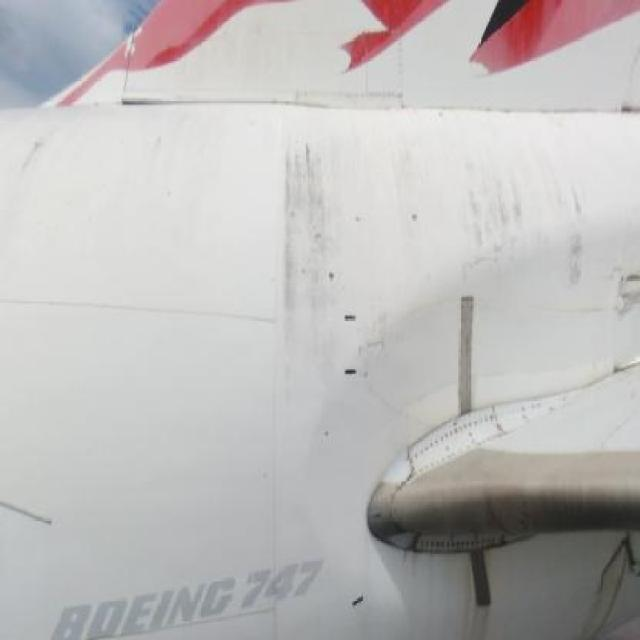Missing-Rivet: (406, 409, 519, 476), (415, 525, 523, 560), (519, 388, 587, 430)
Rust: (456, 122, 596, 293), (250, 104, 344, 358), (378, 114, 449, 243), (570, 527, 635, 640), (441, 547, 507, 640)
Scartch: (356, 285, 401, 384), (607, 252, 640, 329)
